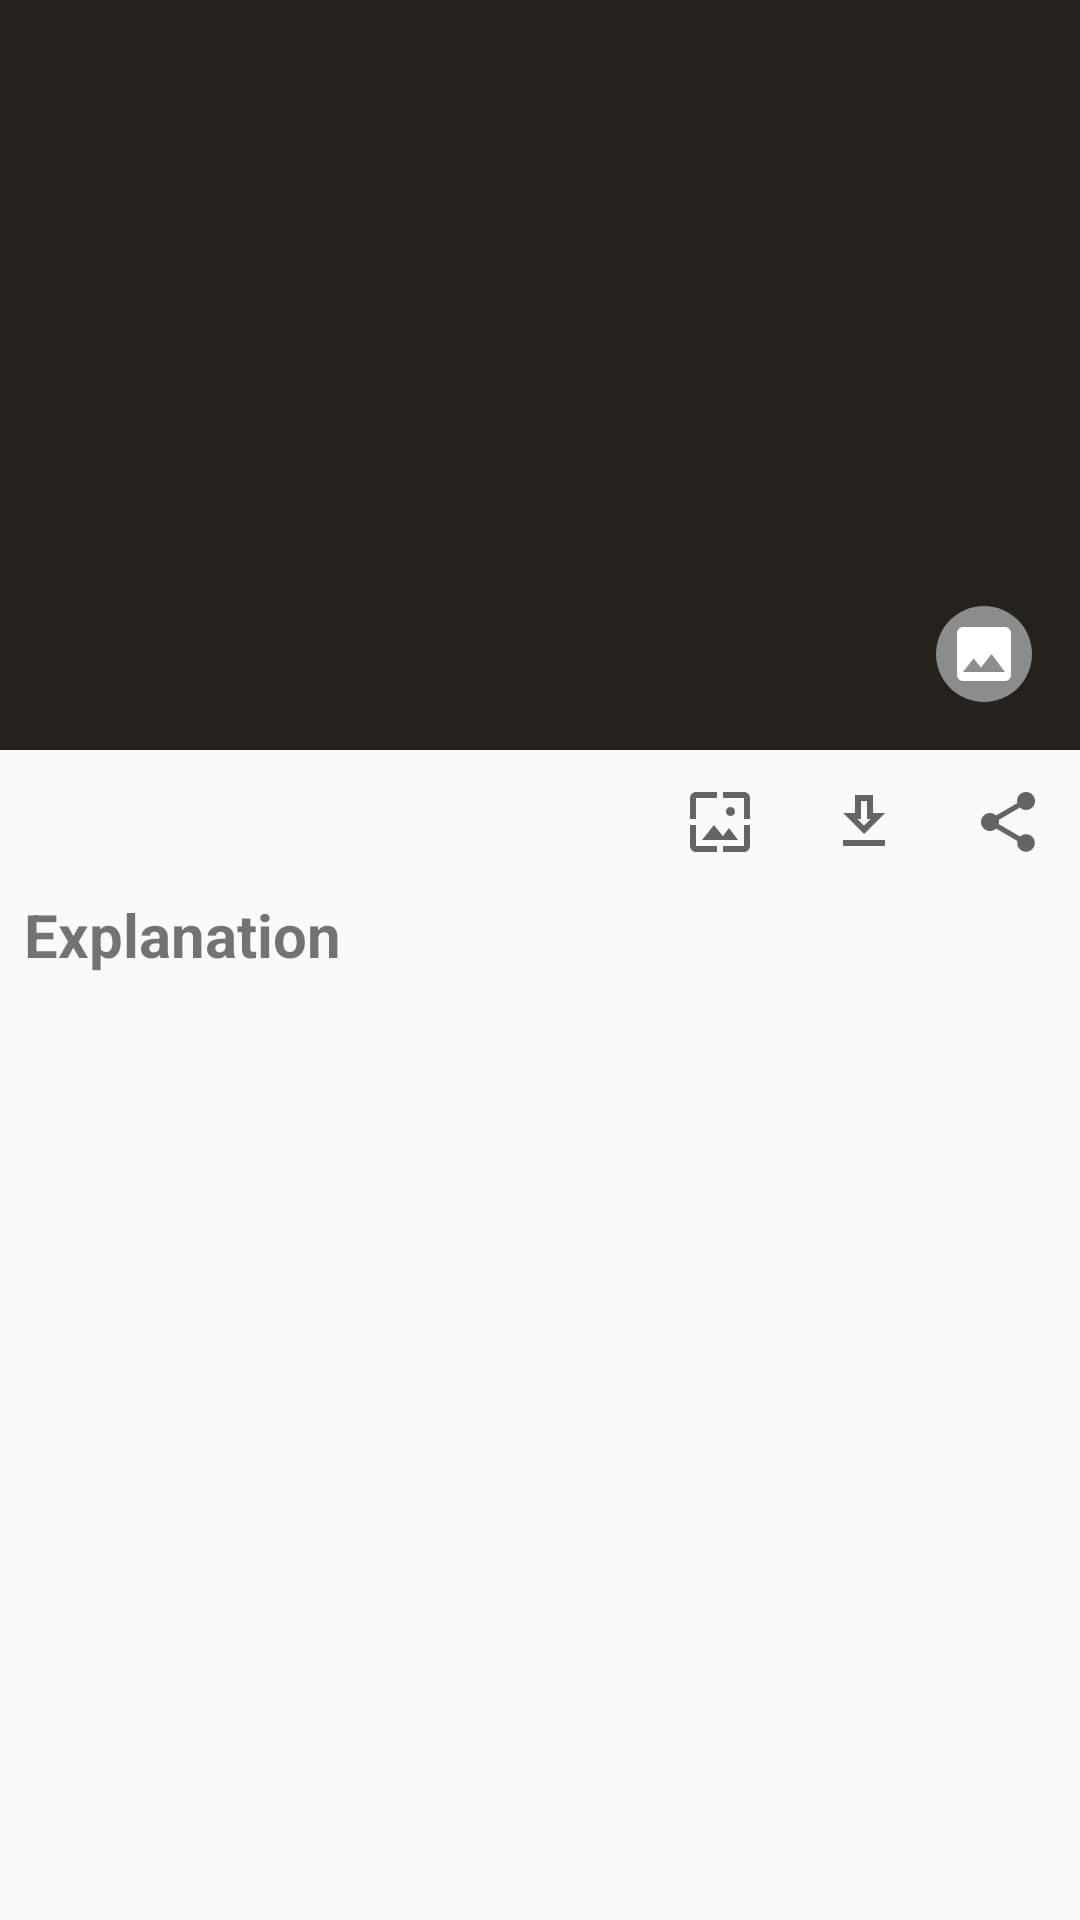

Icons on this 1080w x 1920h Android screen, each with its box as (x1, y1, x2, y2):
DetailActivity download button: (843, 795, 885, 846)
DetailActivity image media type: (936, 606, 1032, 702)
DetailActivity share button: (981, 792, 1035, 852)
